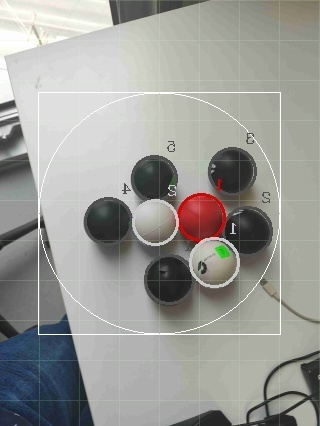Pelota blanca: (189, 236, 241, 288), (133, 198, 180, 246)
Pelota negra: (0, 329, 95, 425), (143, 254, 196, 307), (207, 145, 260, 195), (223, 204, 273, 254), (82, 196, 135, 243), (130, 153, 180, 200), (170, 409, 233, 425)
Pelota roja: (178, 190, 228, 243)
